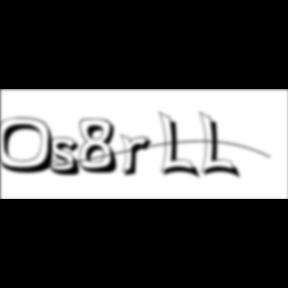8: (80, 117, 124, 176)
L: (159, 110, 203, 182), (200, 110, 244, 182)
O: (0, 117, 62, 176)
r: (121, 134, 159, 180)
s: (48, 137, 88, 179)
